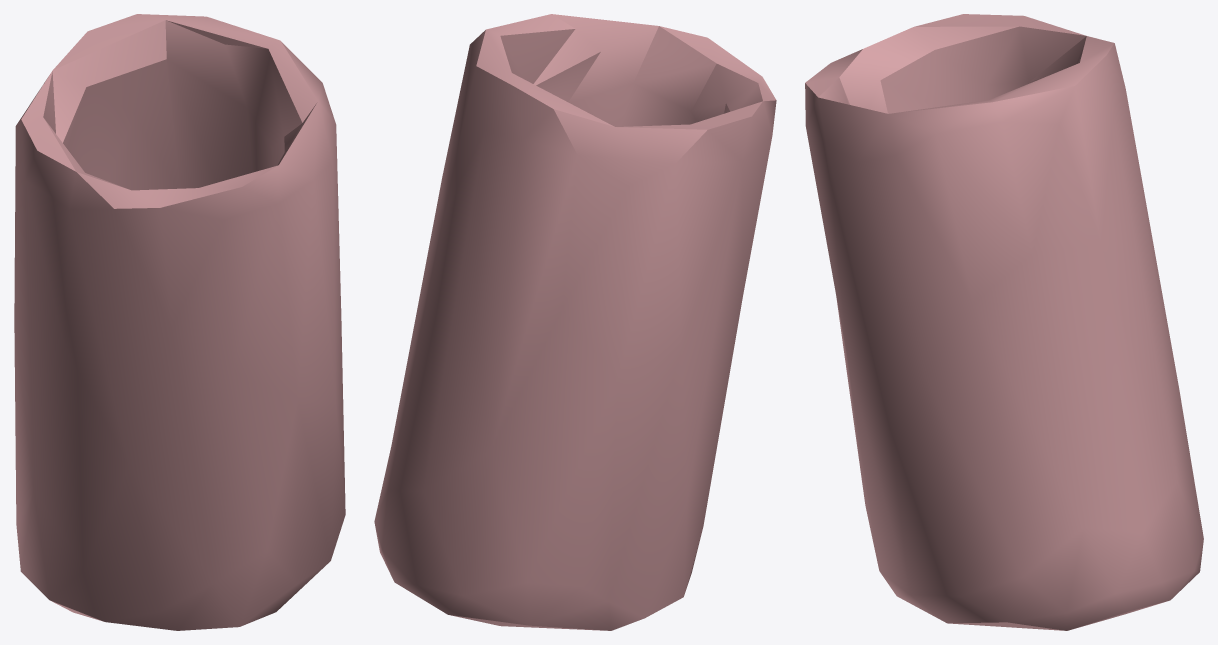
File: fma57443_mm831.glb
The picture shows the model from 3 angles, left to right: view 1: azimuth 30°, elevation 25°; view 2: azimuth 150°, elevation 25°; view 3: azimuth 270°, elevation 25°; orthographic projection. The views are drawn at different scales.
Visible parts, largest first — view 1: FMA57443_MM831; view 2: FMA57443_MM831; view 3: FMA57443_MM831.
Part boxes in pixels (bbox=[...]): FMA57443_MM831: bbox=[14, 14, 345, 630]; FMA57443_MM831: bbox=[374, 14, 776, 630]; FMA57443_MM831: bbox=[805, 14, 1203, 630].
Bounding box in the file's own units: 0.00323 × 0.00511 × 0.00348.
